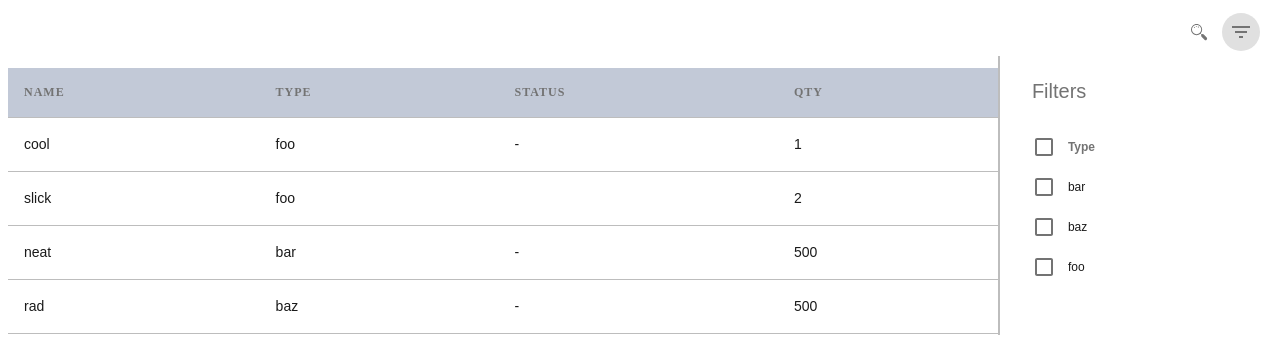
Test: DataTableFilters › should filter on click
The image size is (1277, 352).
Click the 4th checkbox. click: click(1044, 267)
box: [1032,255,1056,279]
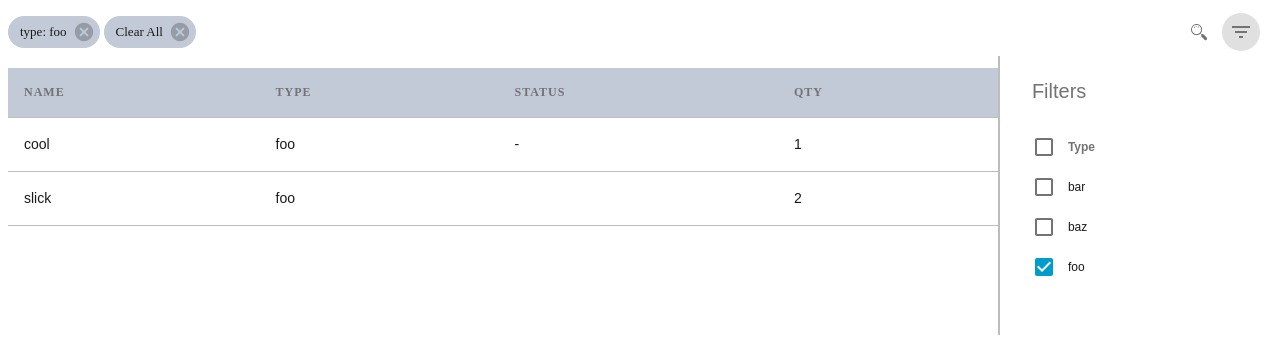
Check: the row "cool foo - 1" is shown, box [8,118,998,172]
Check: the row "slick foo 2" is shown, box [8,172,998,226]
Click the checkbox next to "baz". click: click(1044, 227)
box: [1032,215,1056,239]
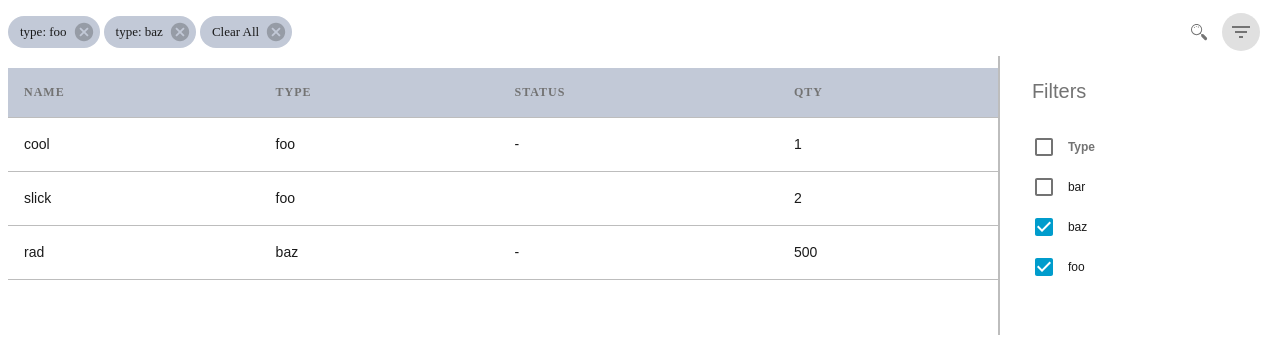
Check: the row "rad baz - 500" is shown, box [8,226,998,280]
